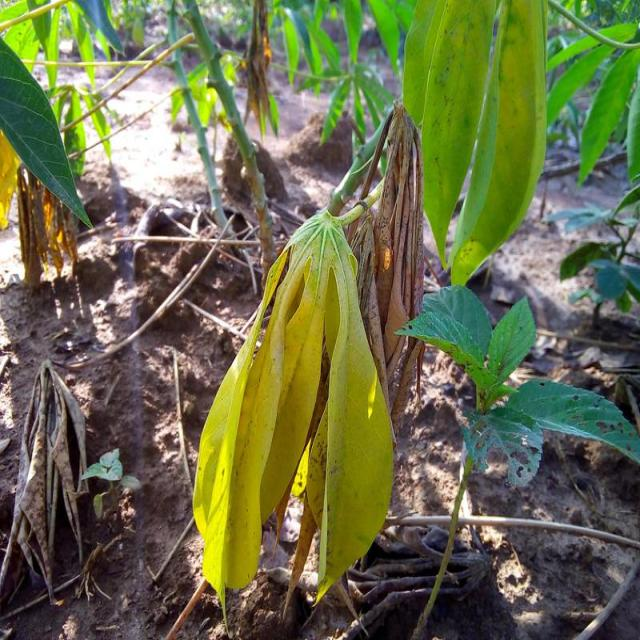cassava leaf: (192, 204, 396, 628), (448, 0, 550, 286), (402, 0, 500, 271), (1, 34, 94, 231)
